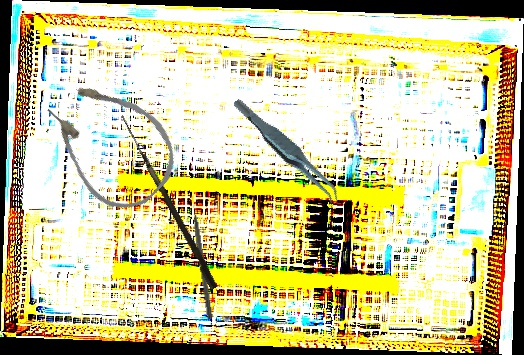Cannula: (28, 59, 193, 226)
Hook Surgical: (113, 114, 221, 291)
Pusher: (189, 195, 215, 320)
Tissue Forceps: (231, 81, 344, 222)
